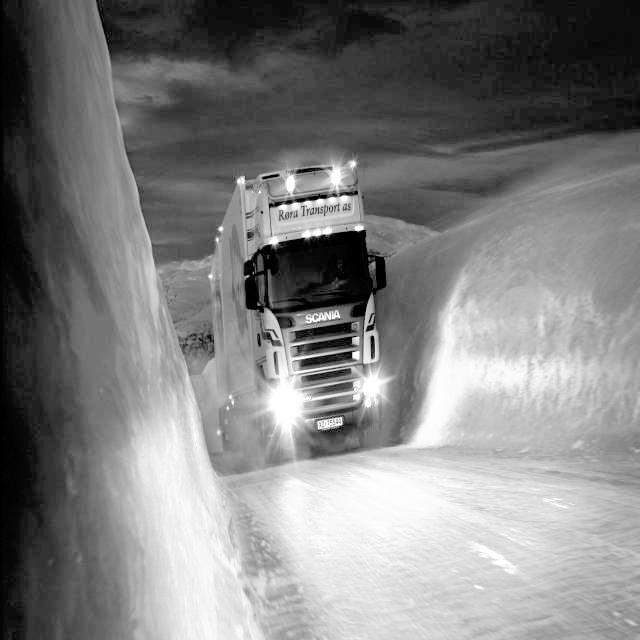Truck: (206, 158, 387, 467)
